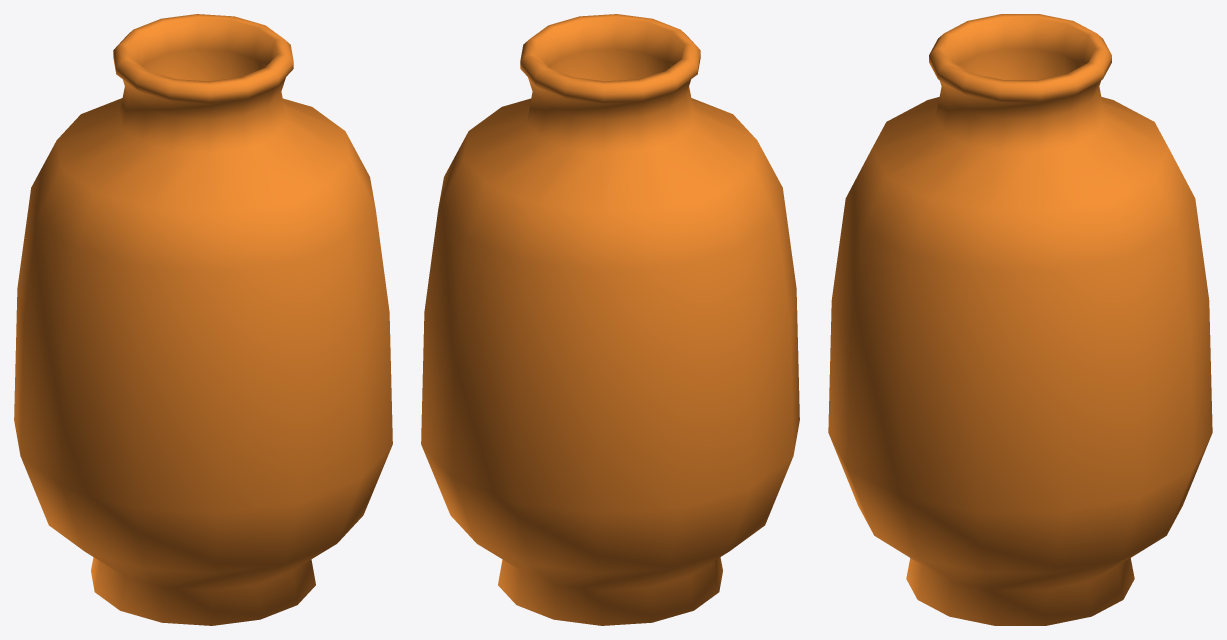
The model's file is SM_pottery_02.fbx.
3 views of the same model, side by side, from view 1: azimuth 30°, elevation 25°; view 2: azimuth 150°, elevation 25°; view 3: azimuth 270°, elevation 25° (orthographic).
Visible parts, largest first — view 1: Cylinder070; view 2: Cylinder070; view 3: Cylinder070.
Part boxes in pixels (<box>): Cylinder070: <box>14,14,392,625</box>; Cylinder070: <box>421,14,799,625</box>; Cylinder070: <box>828,14,1212,625</box>.
Size of the model in its own units: 19.15 by 29.88 by 19.64.
